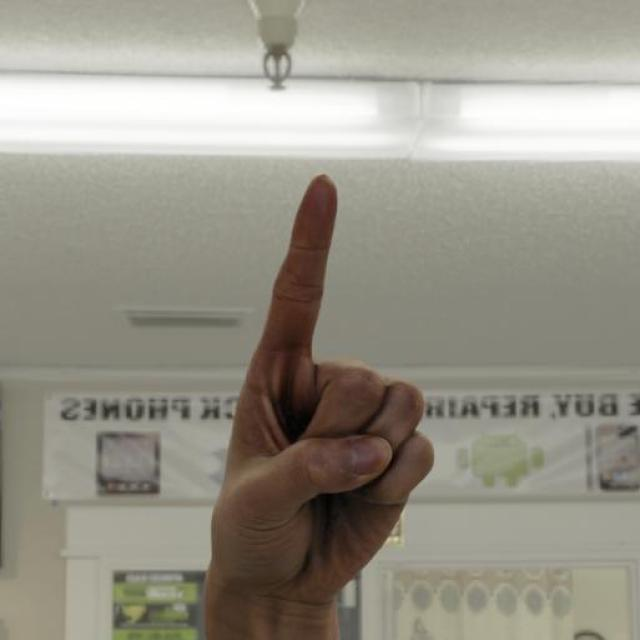Z: (156, 153, 468, 621)
